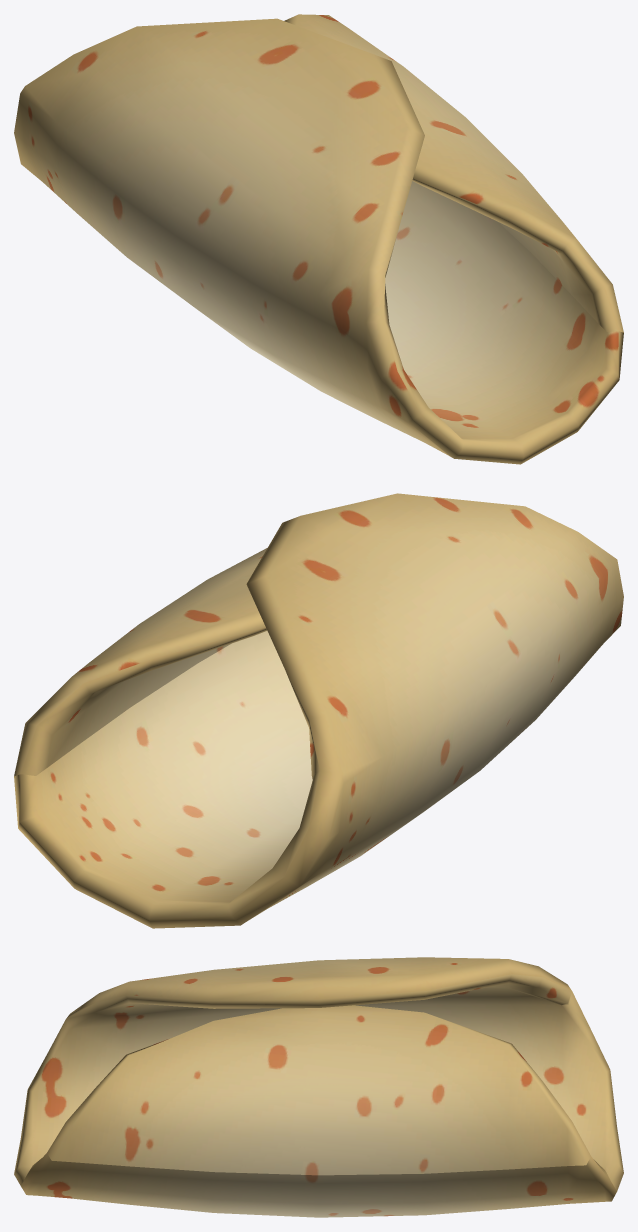
File: Tortilla_Rolled.fbx
3 renders of one model, top to bottom at view 1: azimuth 30°, elevation 25°; view 2: azimuth 150°, elevation 25°; view 3: azimuth 270°, elevation 25°, orthographic. The views are drawn at different scales.
Parts seen in each view (by area): view 1: Tortilla_Rolled; view 2: Tortilla_Rolled; view 3: Tortilla_Rolled.
Part boxes in pixels (x1,y1,x2,y2): Tortilla_Rolled: [14, 14, 623, 464]; Tortilla_Rolled: [14, 493, 623, 928]; Tortilla_Rolled: [14, 957, 623, 1217].
Bounding box in the file's own units: 0.4673 × 0.3882 × 0.925.
Materials: 1 (1 with a texture image).
